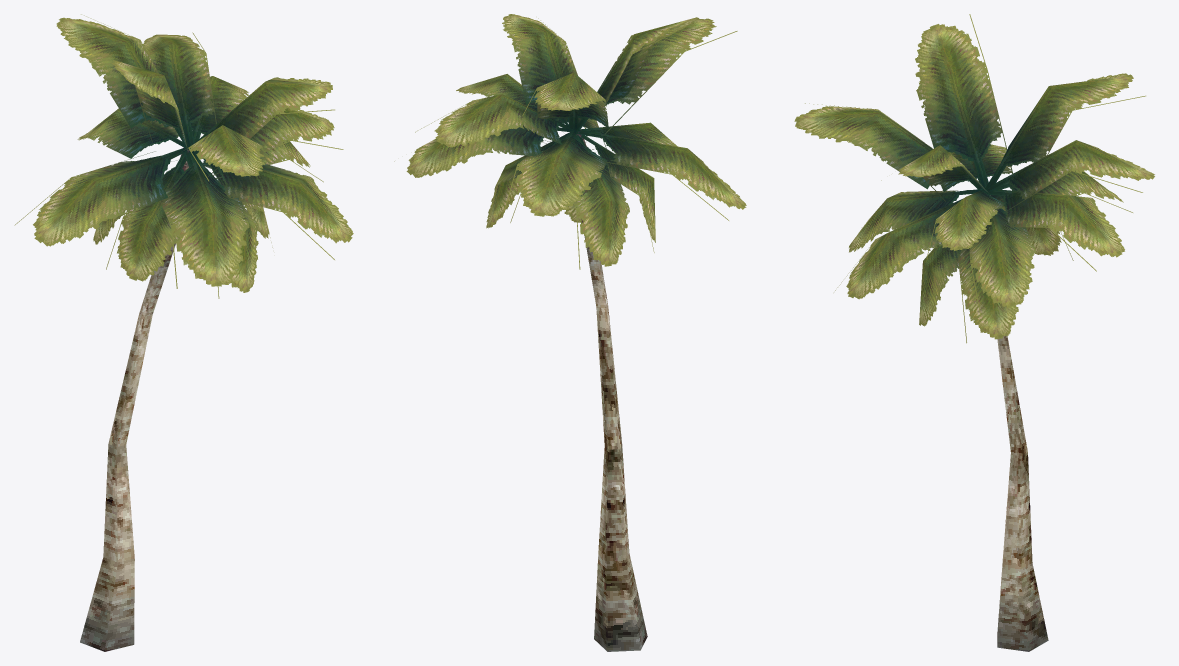
File: stage-beac-p2-87.glb
The picture shows the model from 3 angles, left to right: view 1: azimuth 30°, elevation 25°; view 2: azimuth 150°, elevation 25°; view 3: azimuth 270°, elevation 25°; orthographic projection.
Bounding box in the file's own units: 8.73 × 17.07 × 9.66.
1 material, 1 textured.
